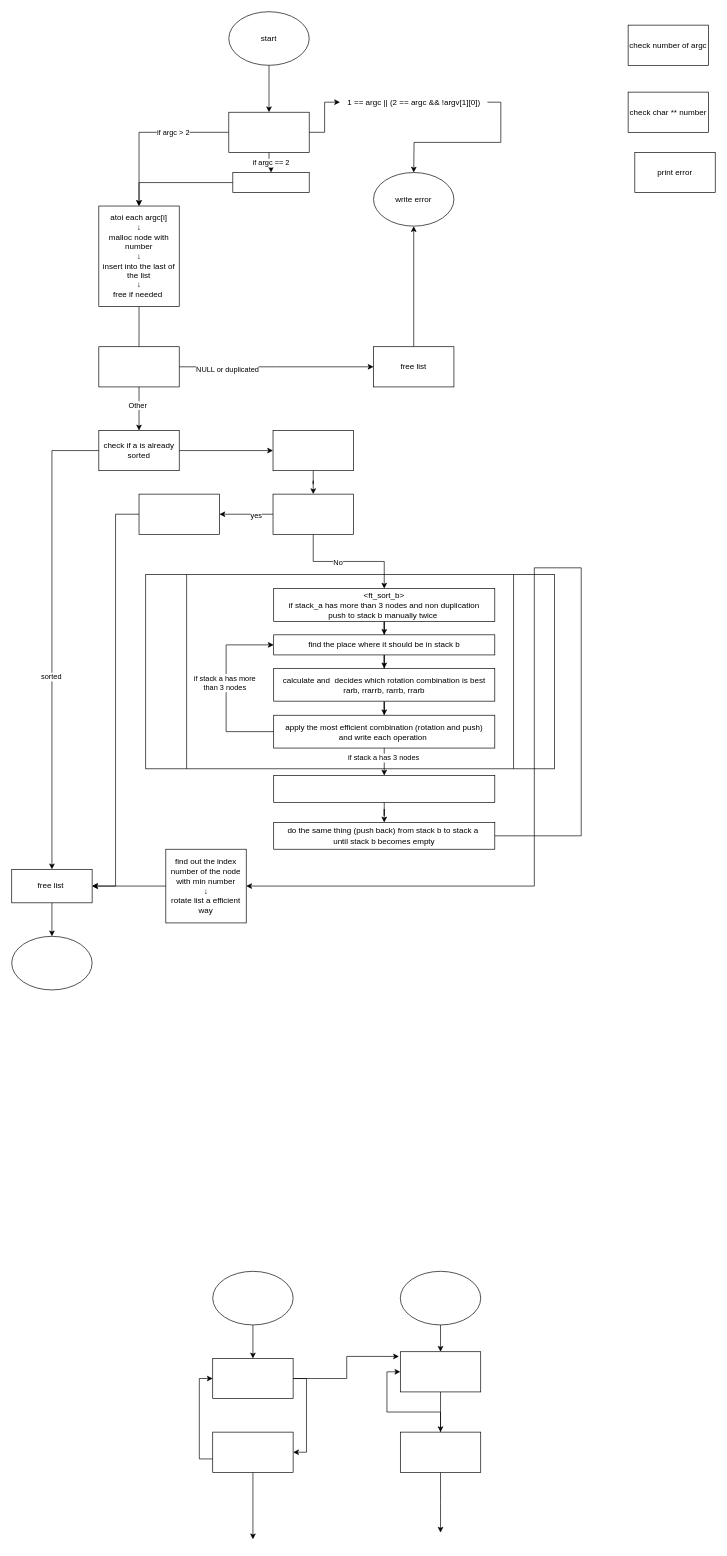
Image size: 727x1556. Some labels were removed from this diagram. The shapes that lost their labels are listed below. From the top down, each one's box as (x1, y1, x2, y2) in pixels, then its label:
(228, 112, 309, 152): check stdin argc numbers
(232, 172, 309, 193): split stdin by space
(98, 346, 179, 387): check a == NULL or check a duplication
(272, 430, 353, 471): sort list
(138, 493, 219, 534): swap a list
(272, 493, 353, 534): if size is 2
(273, 775, 495, 802): sort three node and write each operation
(11, 936, 92, 990): end
